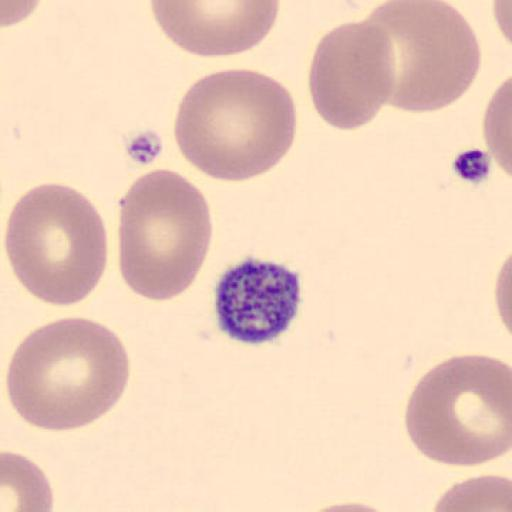Platelet: (211, 254, 307, 347)
RBC: (172, 66, 299, 182), (5, 316, 132, 432), (360, 0, 483, 114), (2, 180, 109, 308), (117, 164, 213, 302), (404, 353, 512, 468), (306, 19, 398, 133), (146, 0, 282, 59), (480, 73, 512, 183), (0, 450, 54, 512), (429, 472, 512, 512), (492, 244, 512, 346), (493, 257, 512, 340), (294, 500, 402, 512), (0, 0, 44, 28), (490, 0, 512, 52)
